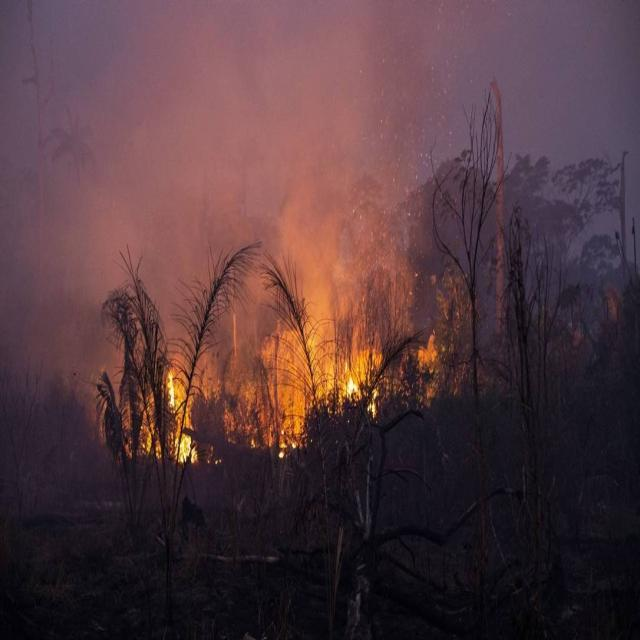Fire: (150, 372, 202, 471), (328, 361, 380, 413), (267, 428, 305, 456)
